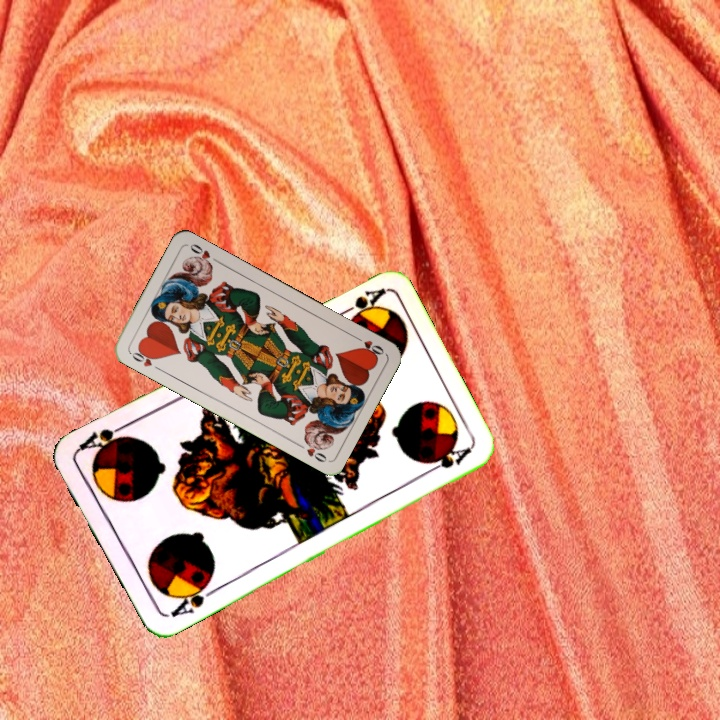HO: (126, 344, 164, 373), (350, 332, 386, 360)
SA: (163, 577, 218, 620), (332, 284, 387, 321)
